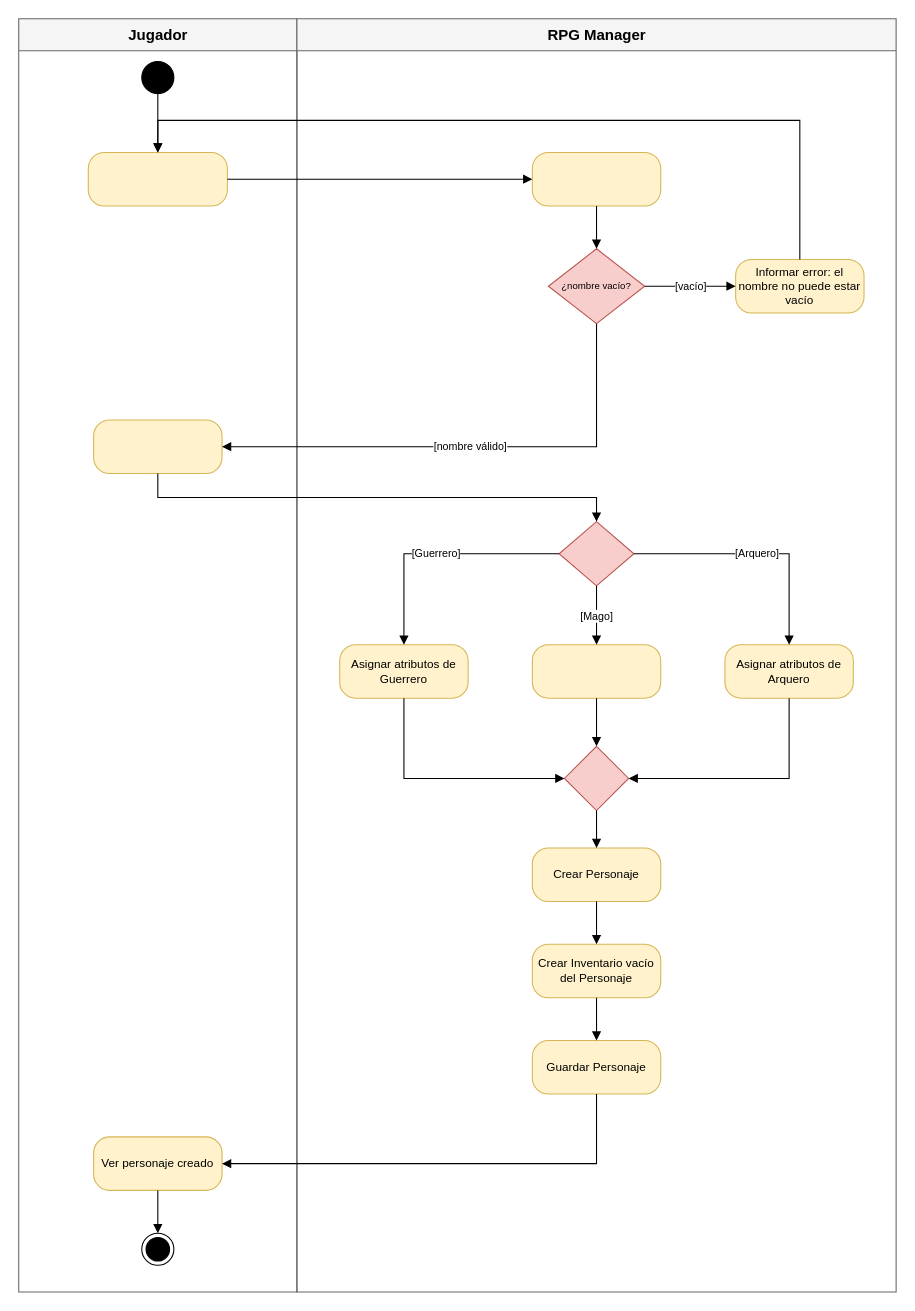
Image size: 915x1311. Some labels were removed from this diagram. Here are the shapes that lost their labels. From the top down, the centre of each, then its label:
At pixel 157 178: "Ingresar nombre del personaje".
At pixel 596 178: "Validar nombre".
At pixel 157 446: "Elegir clase (CU-04, incluido)".
At pixel 596 553: "¿clase?".
At pixel 596 671: "Asignar atributos de Mago".
